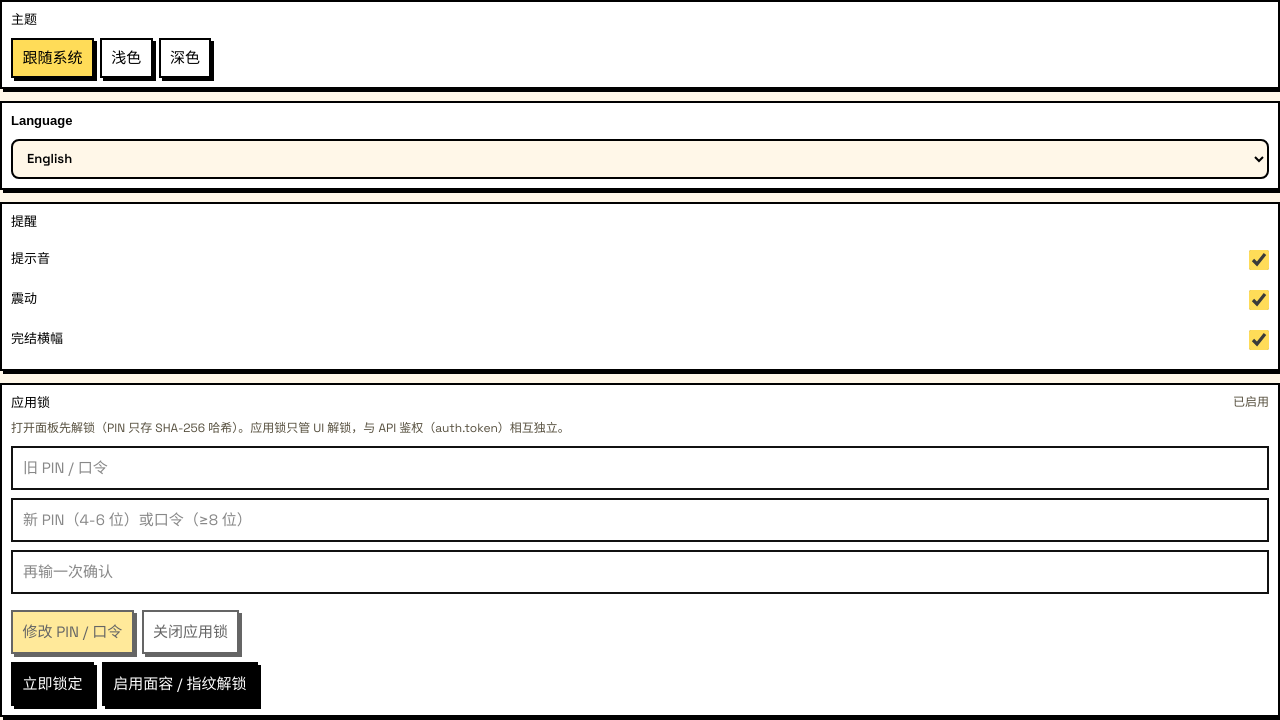
it: 设置页语言选择（Language 三态） › localStorage 恢复：重挂设置页按存档语言渲染（手动 en 优先于 zh-CN 检测）
The image size is (1280, 720).
Select "Chinese" in the dropdown with class "locale-select" at coordinates (640, 159), box [11,139,1269,179]
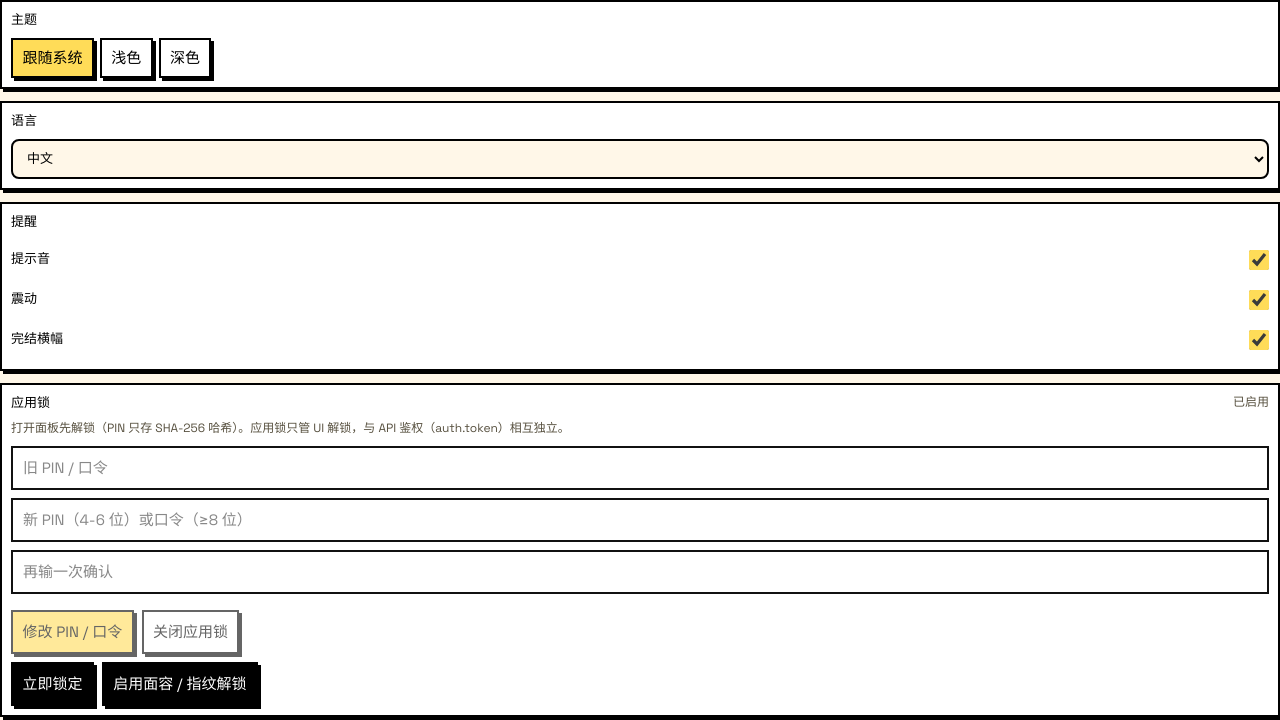
Expected: the dropdown with class "locale-select" shows "中文", [11,139,1269,179]
